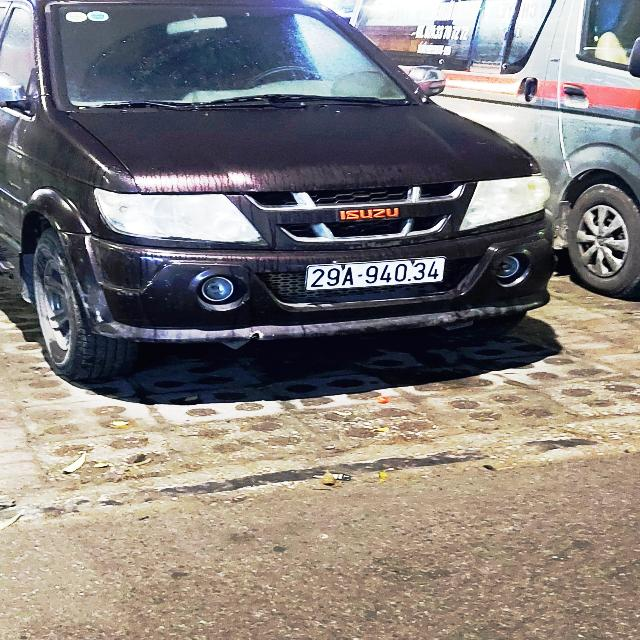license_plate: (305, 256, 448, 293)
